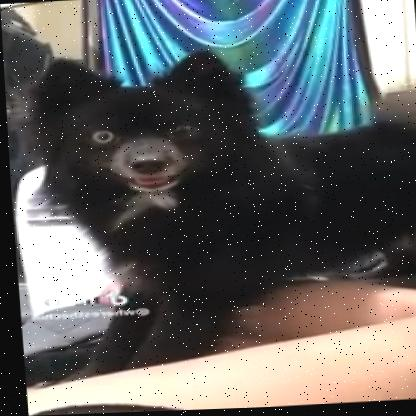dog: (3, 31, 416, 375)
